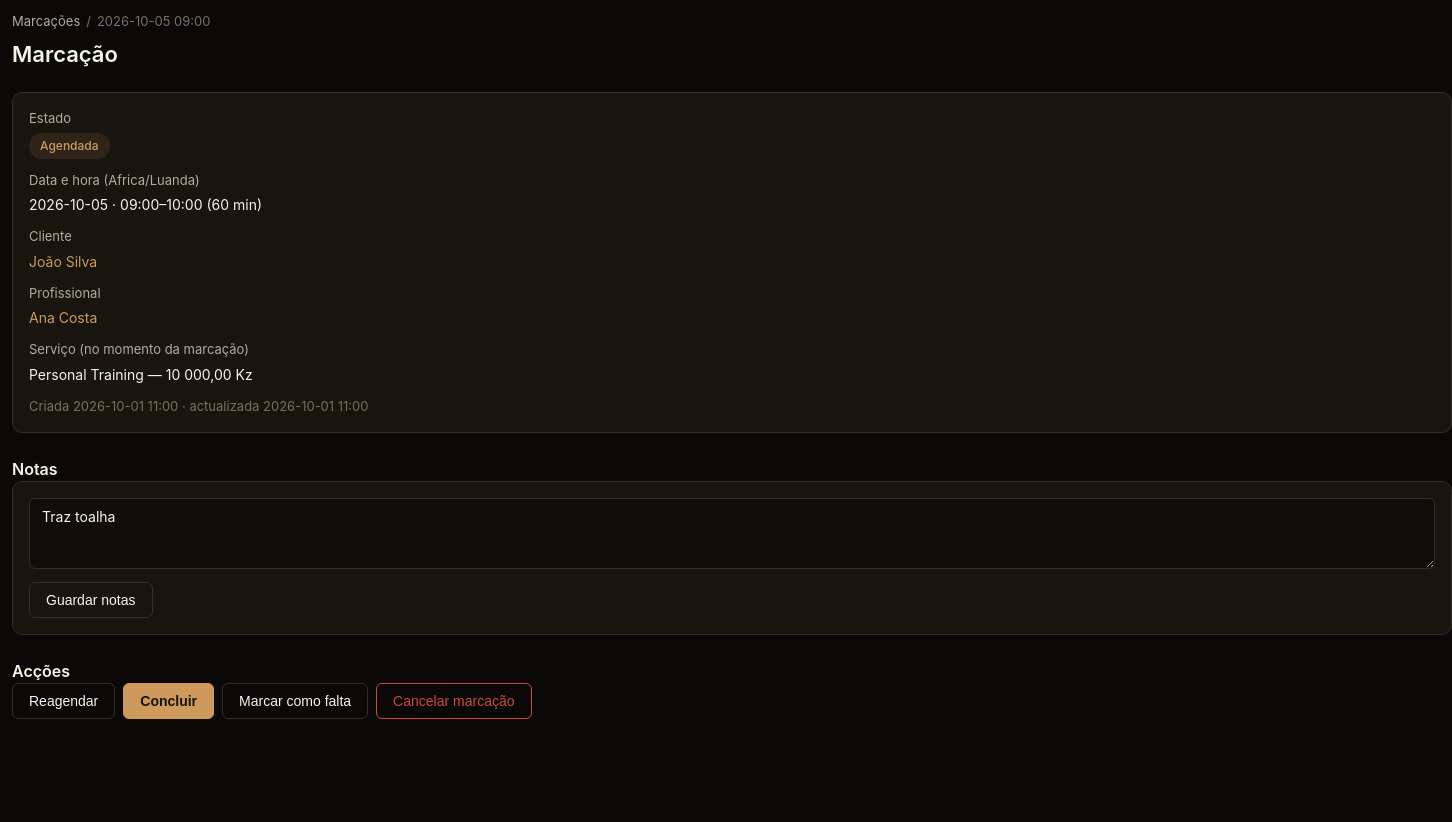
it: Appointment detail › INVALID_APPOINTMENT_STATE (changed elsewhere) reloads the server state instead of keeping a stale screen
This screenshot has width=1452, height=822.
expect the text "Agendada" is shown: met, box [29, 133, 110, 159]
Click the button "Concluir".
click(169, 701)  # box [123, 683, 214, 719]
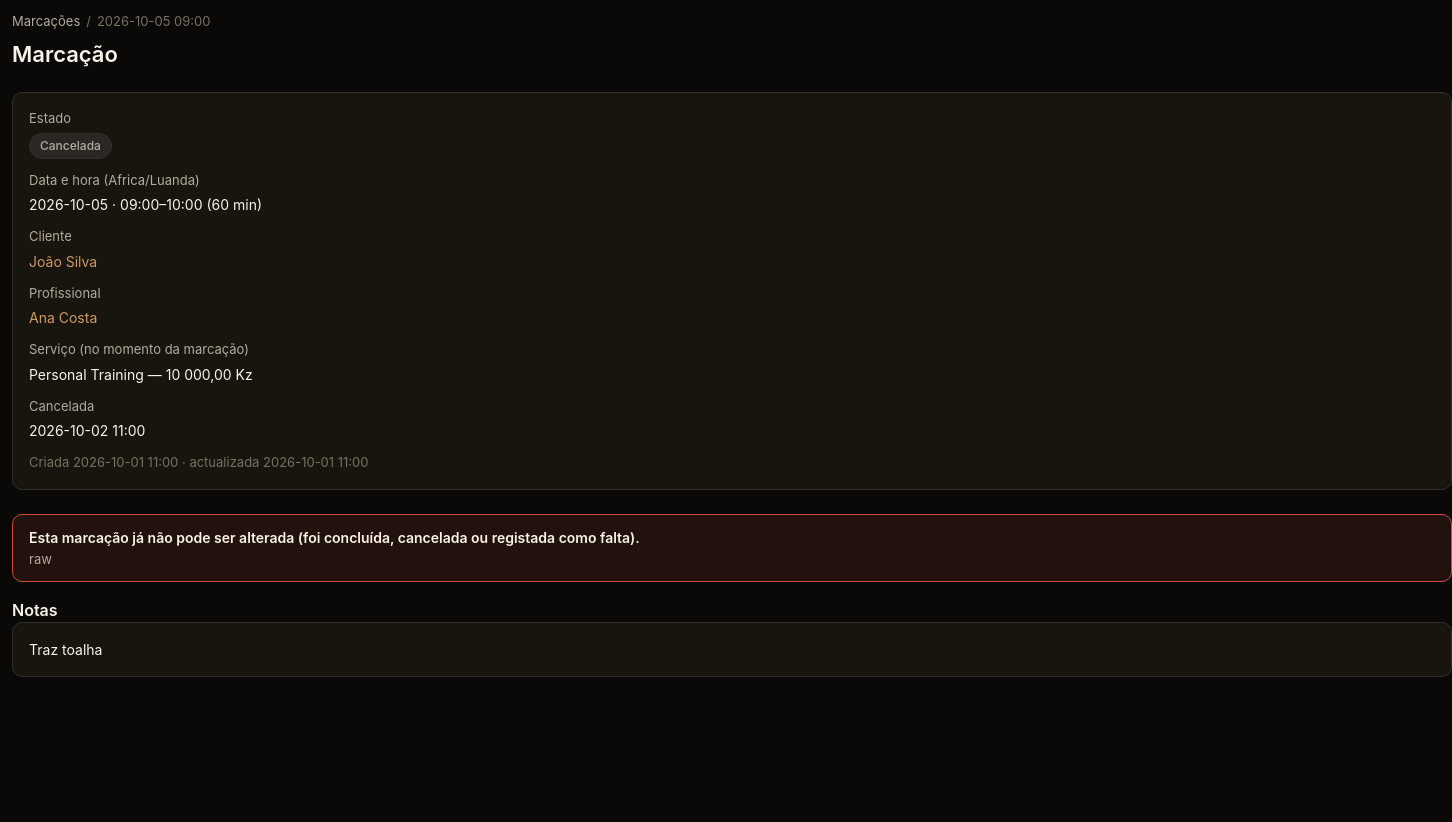
expect the text "Cancelada" is shown: met, box [29, 133, 112, 159]
